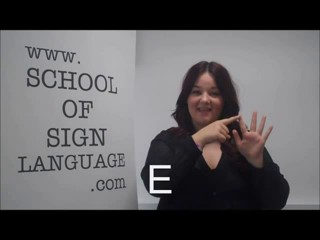E: (189, 108, 277, 163)
